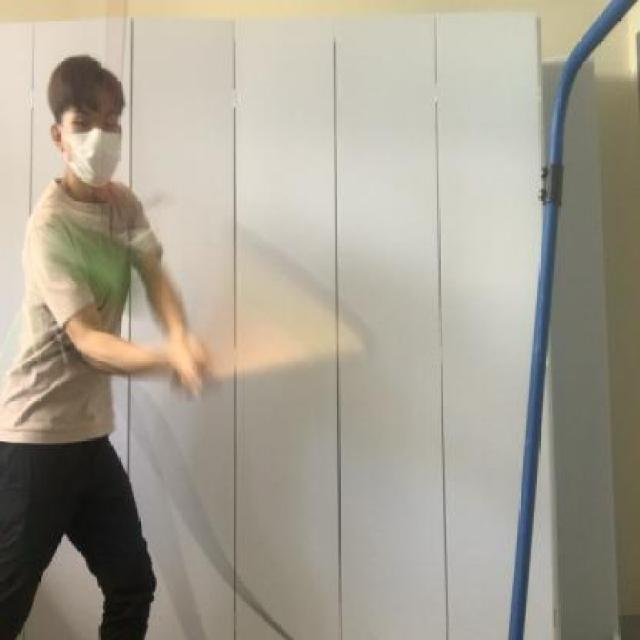baseball: (40, 206, 155, 332)
